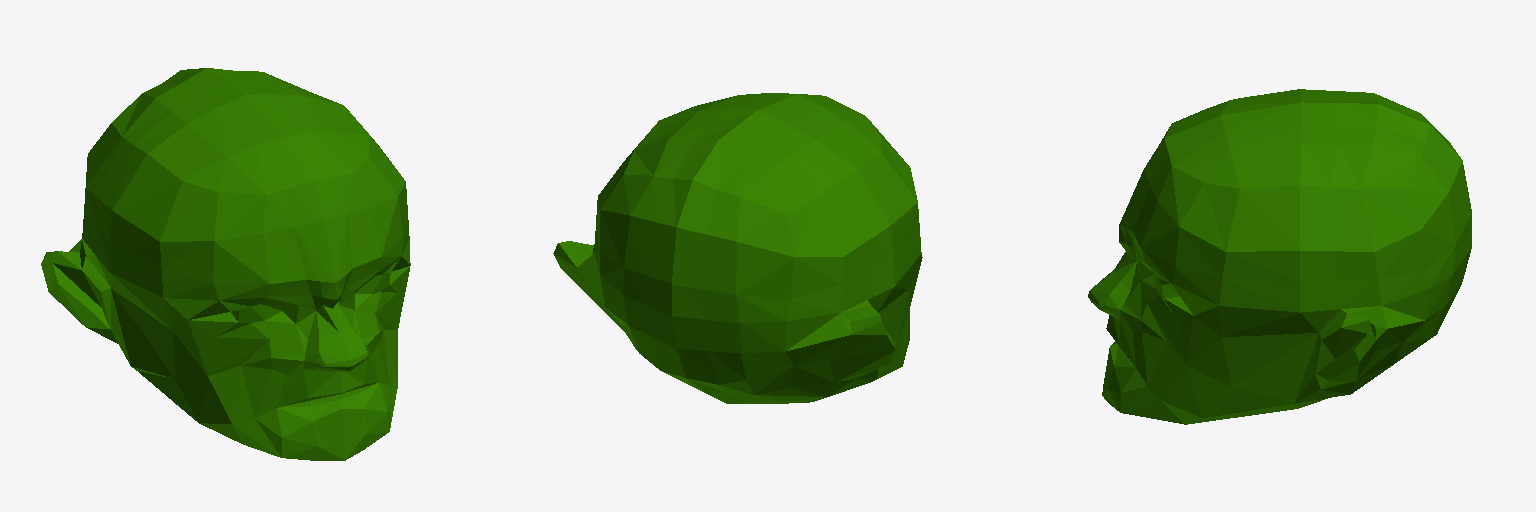
Rendered from dragonLee.obj.
3 views of the same model, side by side, from view 1: azimuth 30°, elevation 25°; view 2: azimuth 150°, elevation 25°; view 3: azimuth 270°, elevation 25° (orthographic).
Visible parts, largest first — view 1: Box001; view 2: Box001; view 3: Box001.
Boxes of the visible parts, <box> form: Box001: <box>41,68,410,460</box>; Box001: <box>553,93,922,403</box>; Box001: <box>1088,89,1471,424</box>.
Size of the model in its own units: 113 by 99.34 by 113.